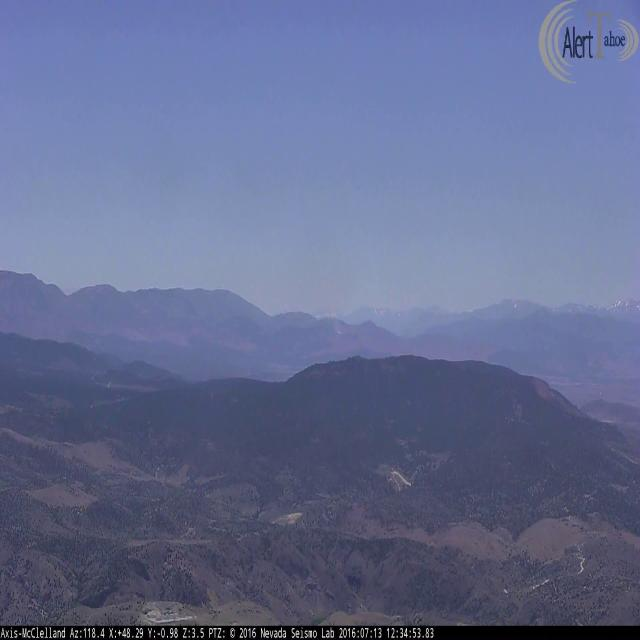smoke: (332, 318, 344, 335)
